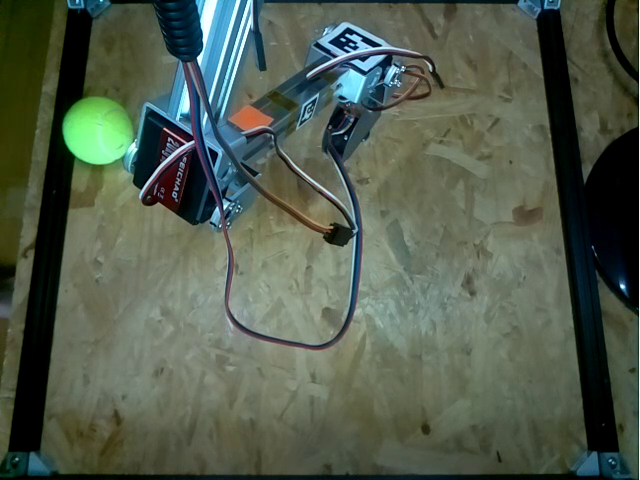tennis_ball: (63, 95, 135, 165)
